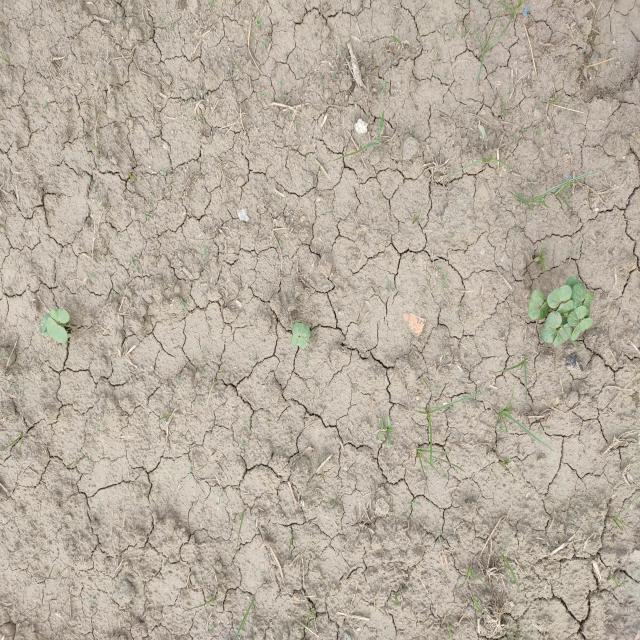seedling: (541, 311, 562, 343), (547, 285, 572, 309), (46, 318, 68, 343), (571, 318, 594, 341), (528, 289, 545, 320), (553, 323, 574, 348), (567, 305, 587, 327), (571, 284, 586, 310), (291, 323, 311, 340), (50, 309, 70, 324), (557, 299, 574, 316), (584, 292, 594, 318), (538, 299, 550, 320), (566, 276, 584, 289), (291, 335, 307, 349), (39, 313, 50, 333)
